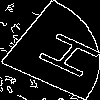H: (24, 25, 100, 81)
